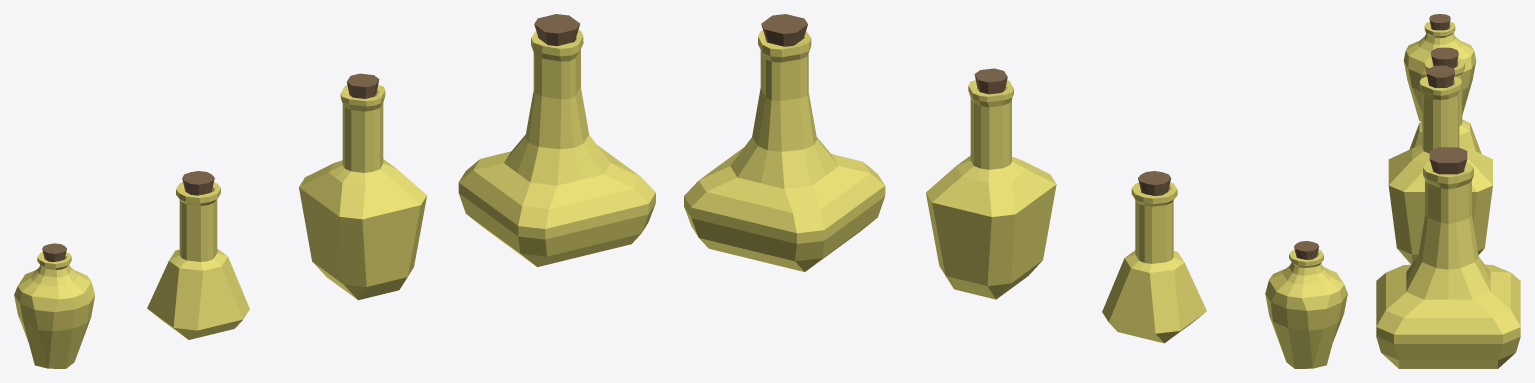
The model's file is Bottiglie gialle piccole-grandi.fbx.
3 views of the same model, side by side, from view 1: azimuth 30°, elevation 25°; view 2: azimuth 150°, elevation 25°; view 3: azimuth 270°, elevation 25° (orthographic). The views are drawn at different scales.
Parts seen in each view (by area): view 1: Large_Yellow, Medium_Yellow, Small_Yellow, Vial_Yellow; view 2: Large_Yellow, Medium_Yellow, Small_Yellow, Vial_Yellow; view 3: Large_Yellow, Medium_Yellow, Vial_Yellow, Small_Yellow.
Part boxes in pixels (x1,y1,x2,y2): Large_Yellow: (458,14,655,266); Medium_Yellow: (299,73,426,300); Small_Yellow: (147,171,249,339); Vial_Yellow: (14,243,94,368); Large_Yellow: (684,14,885,271); Medium_Yellow: (926,68,1056,299); Small_Yellow: (1102,171,1206,343); Vial_Yellow: (1265,241,1347,368); Large_Yellow: (1376,147,1520,368); Medium_Yellow: (1388,65,1492,264); Vial_Yellow: (1403,14,1476,121); Small_Yellow: (1409,47,1481,153).
Bounding box in the file's own units: 2656 × 881 × 598.
